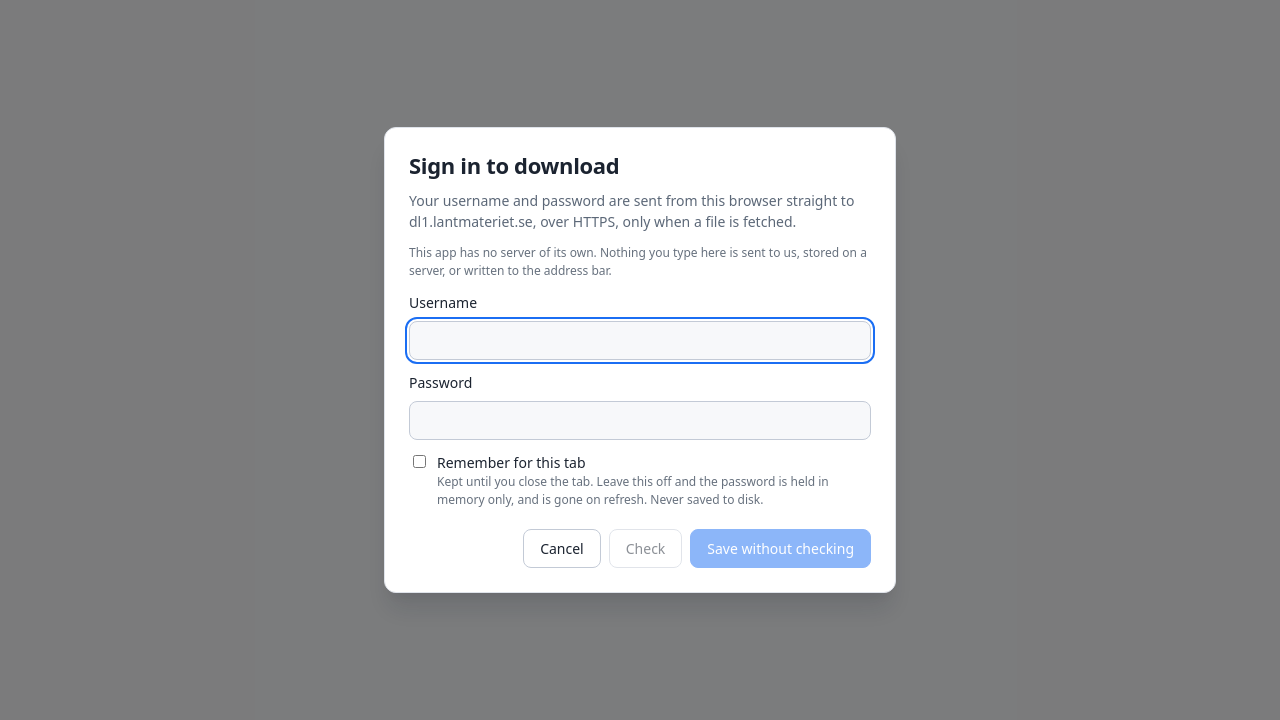
Test case: verification › reports a missing subscription as exactly that, with a way forward
Type "anna" into the field labelled "Username" at {"x": 640, "y": 341}, box top-left (409, 321), bottom-right (871, 360)
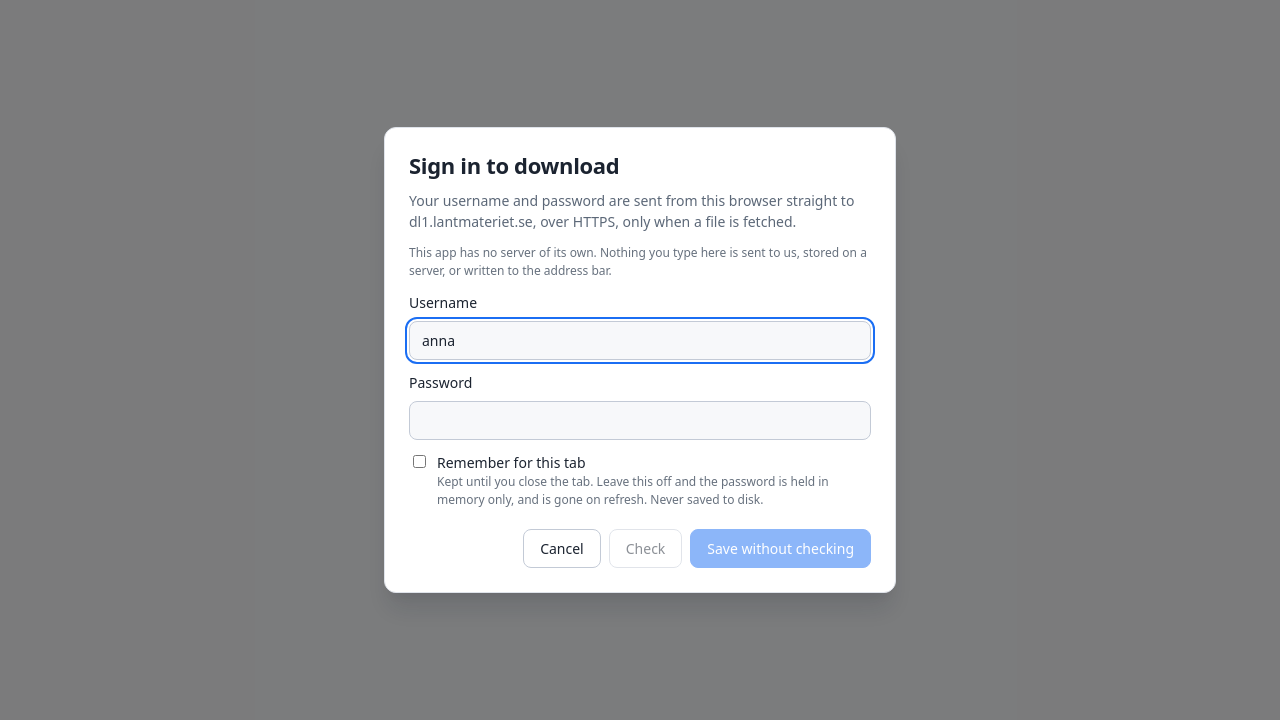
Type "hemligt" into the password field labelled "Password" at {"x": 640, "y": 421}, box top-left (409, 401), bottom-right (871, 440)
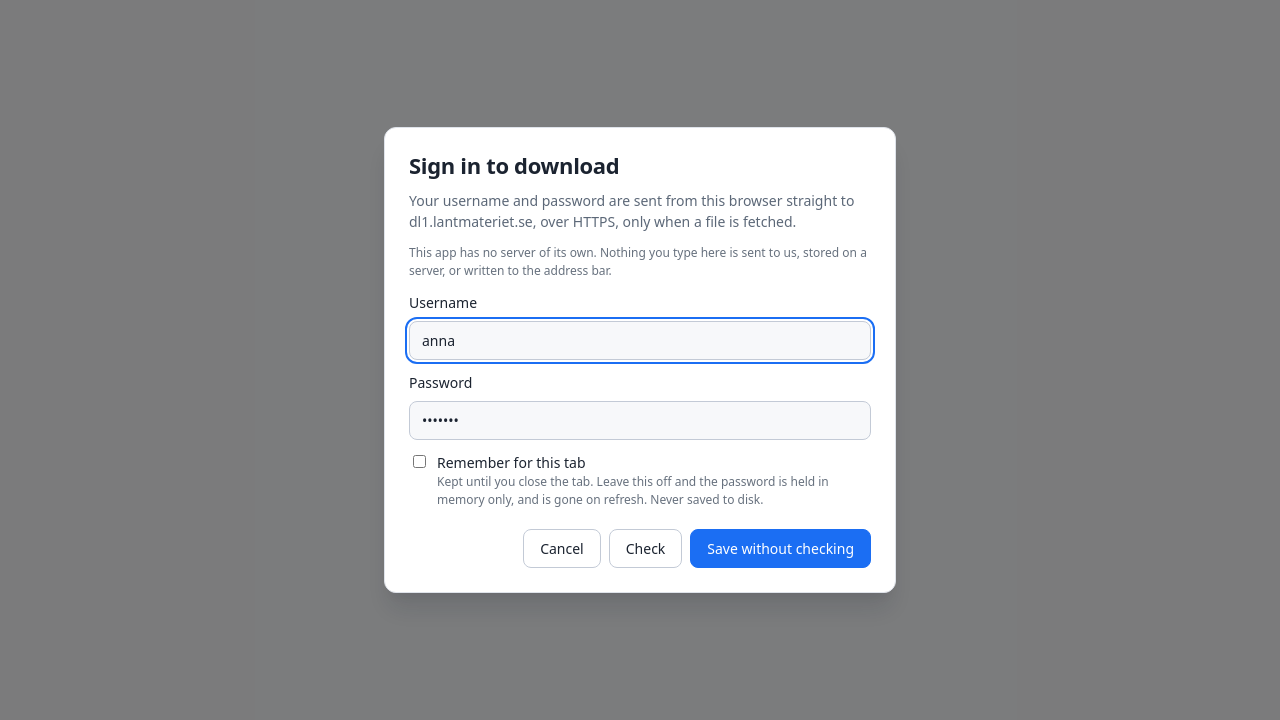
Submit the form, box top-left (385, 128), bottom-right (895, 592)
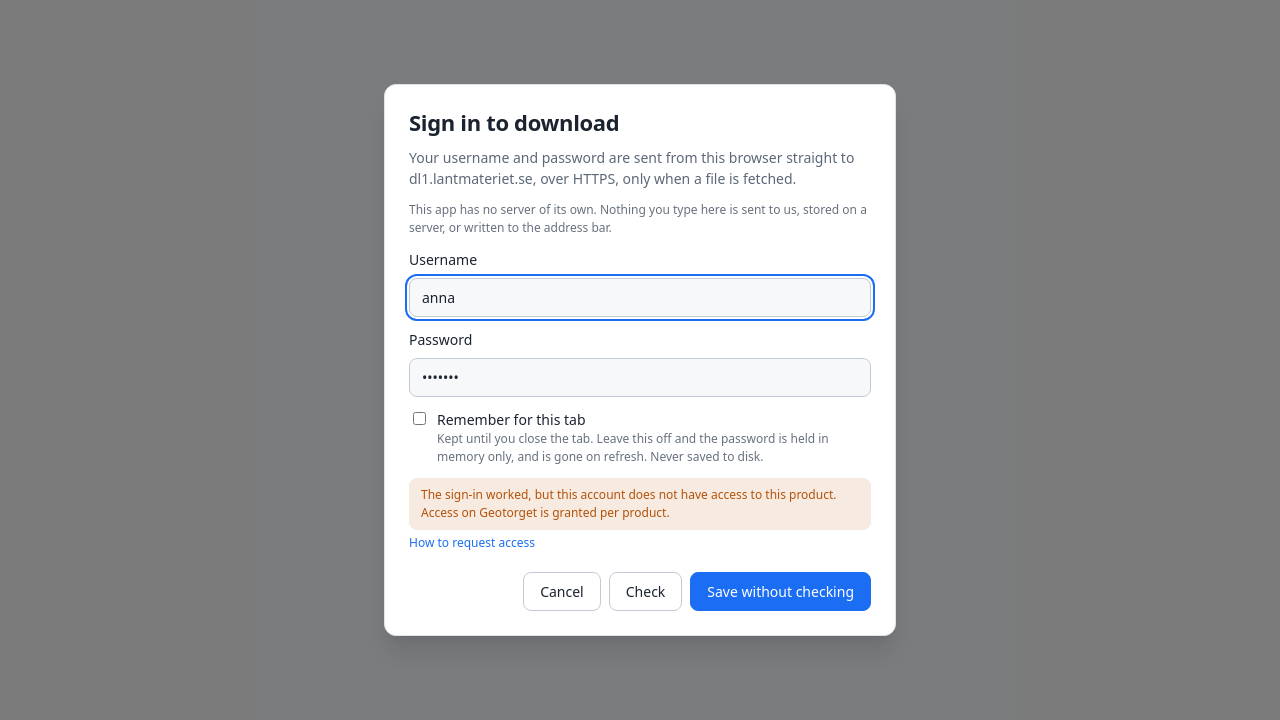
Check: the text with class "msg--warn" shows "sign-in worked", box top-left (421, 486), bottom-right (836, 521)
Check: the text with class "msg--warn" shows "per product", box top-left (421, 486), bottom-right (836, 521)
